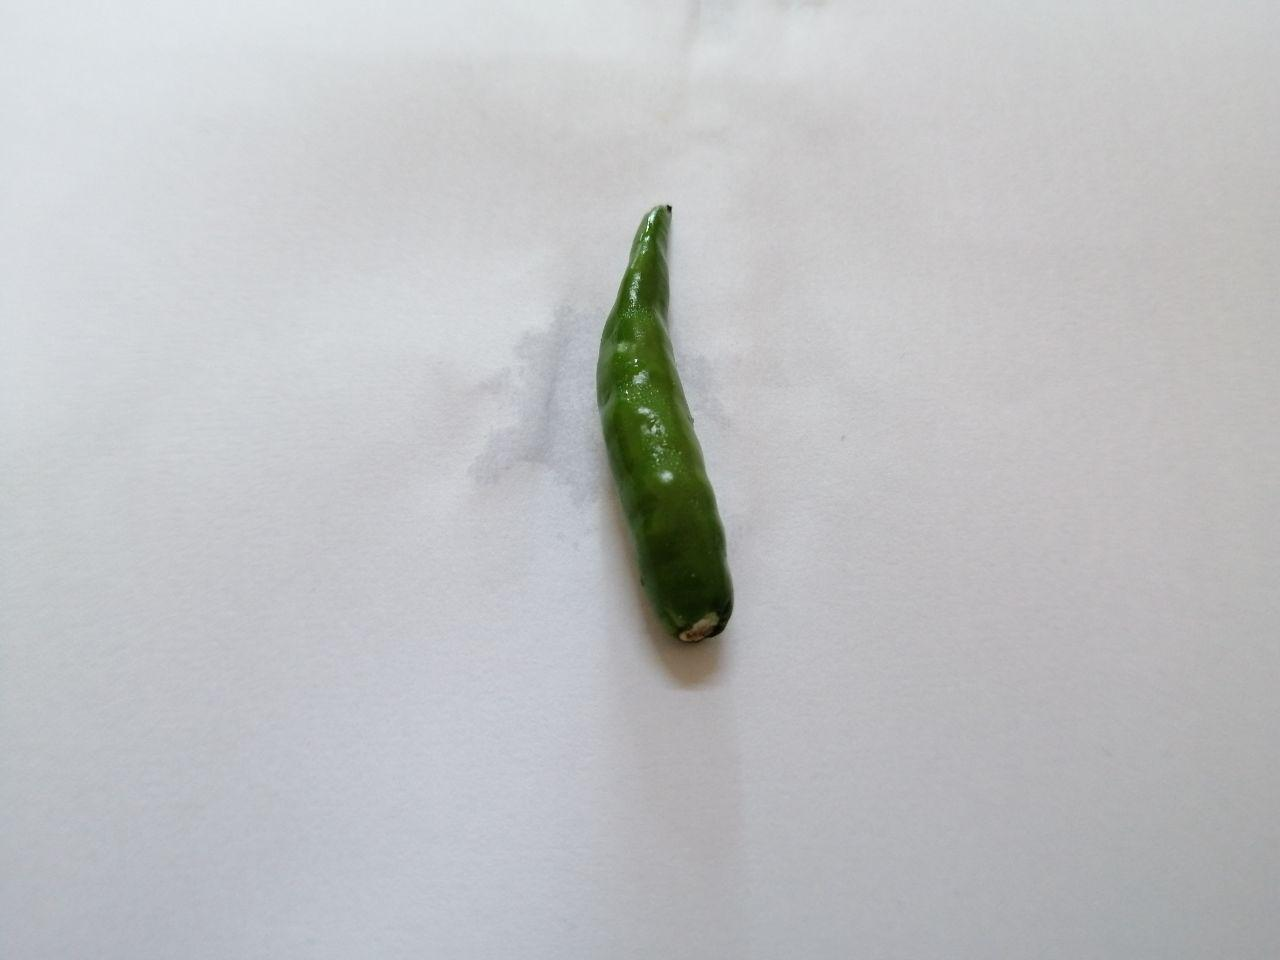lada hijau: (575, 187, 762, 665)
